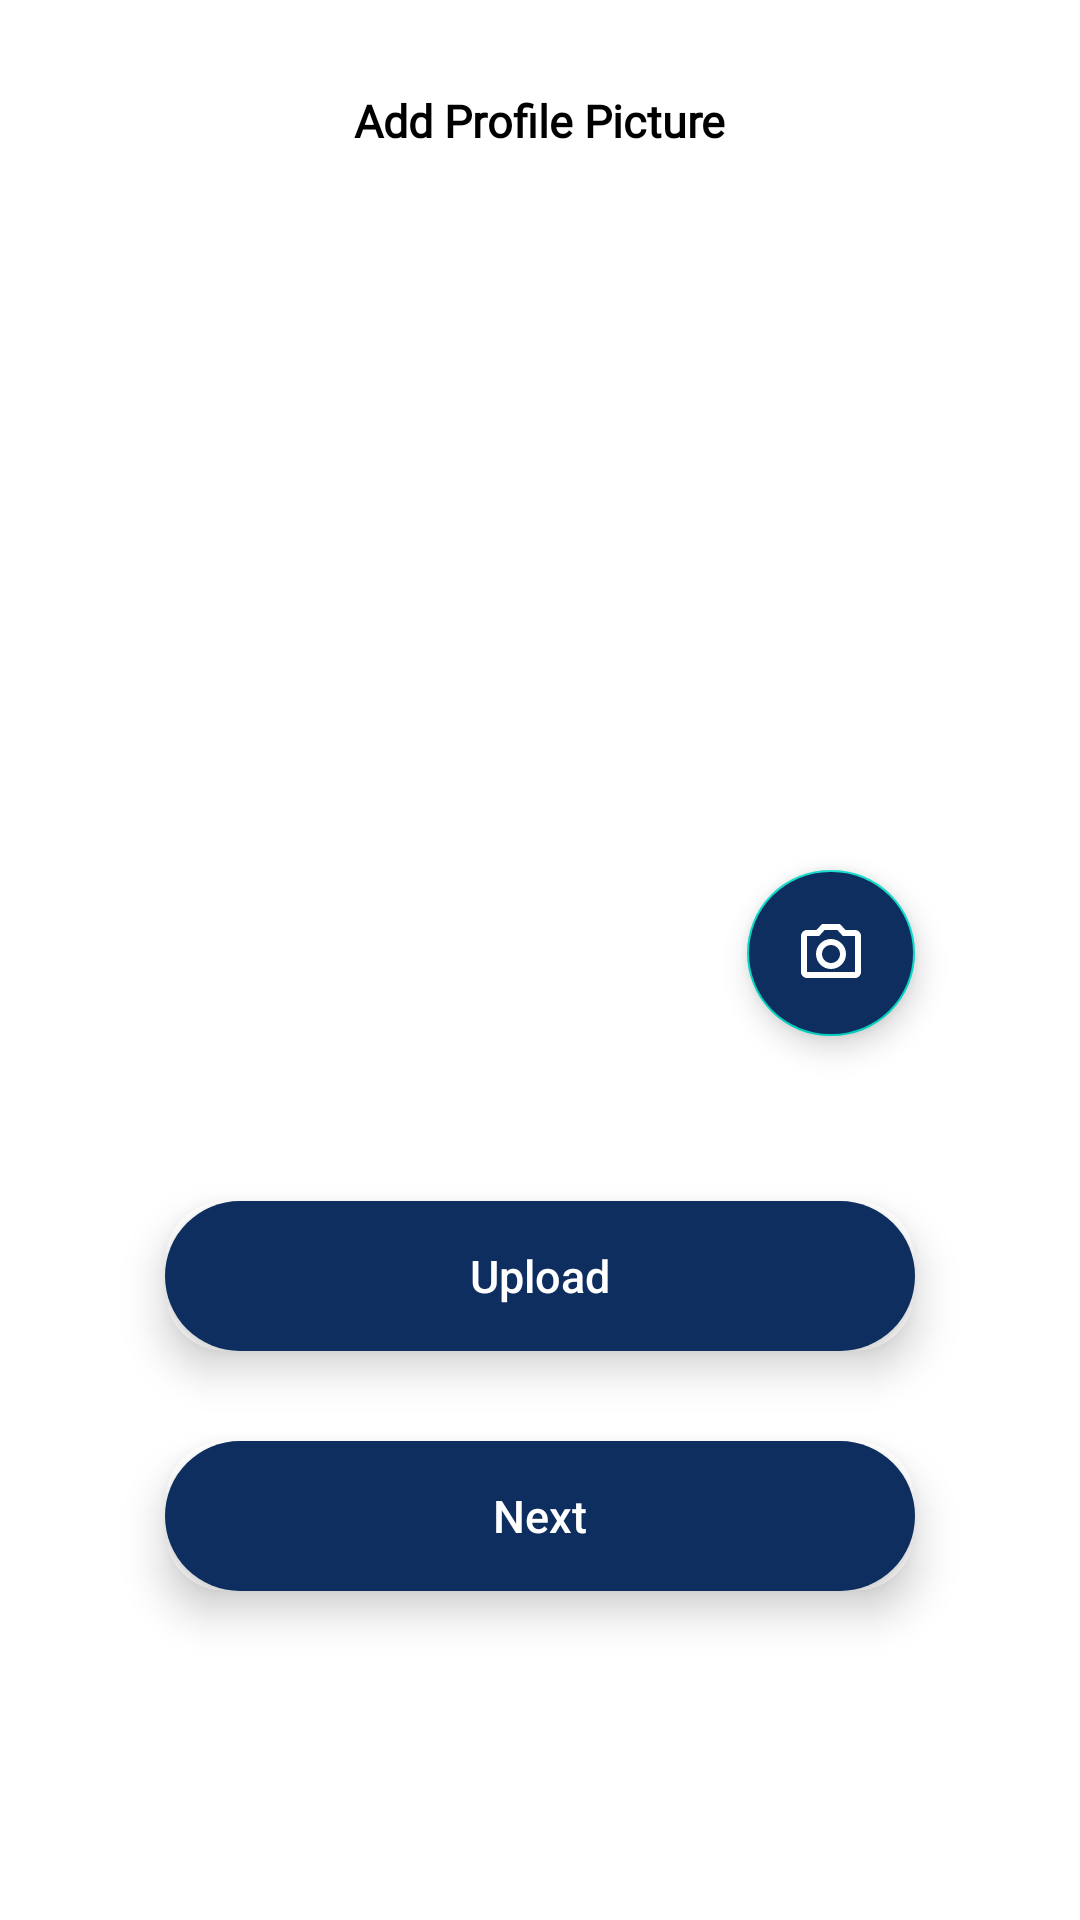

Screen size 1080px x 1920px. Icon name, then its center in pixels as [x,y]:
camera: [831,953]
